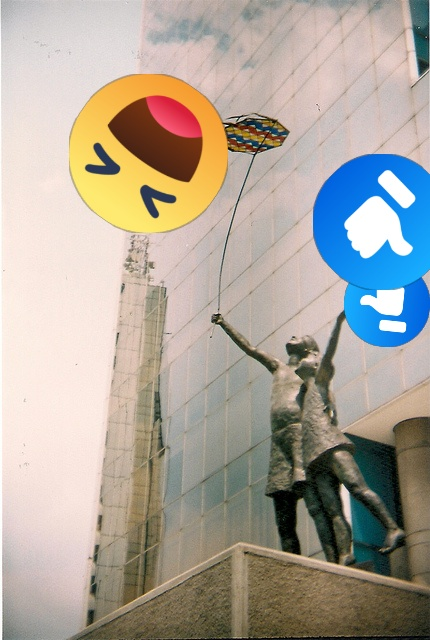haha: (69, 74, 228, 233)
like: (313, 154, 430, 290), (344, 261, 430, 347)
